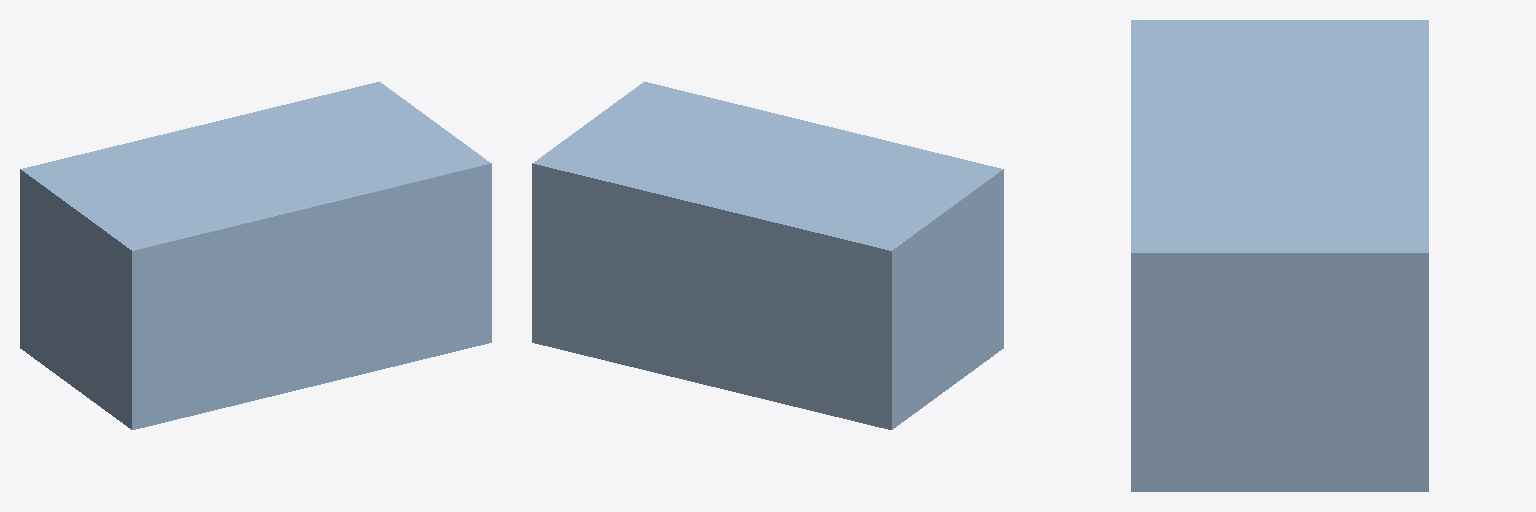
The robot description file, URDF, robot "box_13":
<?xml version="1.0" ?>
<robot name="box_13">
  <dynamics damping="0.5" friction="0.9"/>
  <link name="baseLink">
    <inertial>
      <mass value="0.1"/>
      <origin xyz="0 0 0"/>
      <inertia ixx="0.00073109133" ixy="0" ixz="0" iyy="0.0017291603" iyz="0" izz="0.0018186622"/>
    </inertial>
    <contact>
      <lateral_friction value="0.9"/>
      <rolling_friction value="0.5"/>
      <stiffness value="30000"/>
      <damping value="1000"/>
    </contact>
    <visual>
      <origin rpy="0 0 0" xyz="0 0 0"/>
      <geometry>
        <mesh filename="box_13.obj" scale="1.0 1.0 1.0"/>
      </geometry>
      <material name="mat">
        <color rgba="0.7 0.8 0.9 1"/>
      </material>
    </visual>
    <collision>
      <origin rpy="0 0 0" xyz="0 0 0"/>
      <geometry>
        <mesh filename="box_13.obj" scale="1.0 1.0 1.0"/>
      </geometry>
    </collision>
  </link>
</robot>

--- Render facts (derived) ---
3 views of the same robot in one strip: view 1: azimuth 30°, elevation 25°; view 2: azimuth 150°, elevation 25°; view 3: azimuth 270°, elevation 25° (orthographic).
Robot: box_13 — 1 links, 0 joints (none); root link baseLink; default pose: all joints at 0.
Links seen in each view (by area): view 1: baseLink; view 2: baseLink; view 3: baseLink.
Boxes of the visible links, x1=… form: baseLink: x1=20, y1=82, x2=491, y2=429; baseLink: x1=532, y1=82, x2=1003, y2=429; baseLink: x1=1131, y1=20, x2=1428, y2=491.
Size in the robot's own frame: 0.4111 by 0.2219 by 0.1962 metres.
Meshes: 1 distinct files referenced, 1 mesh visuals loaded (1 OBJ).
